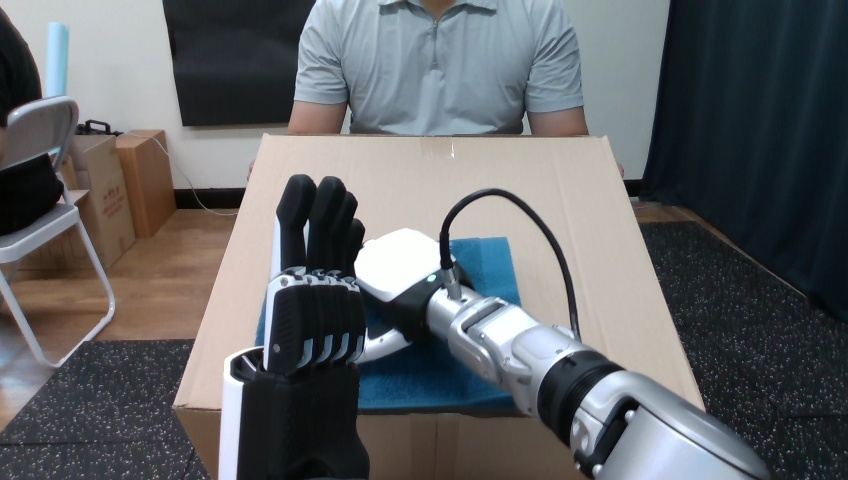left robot hand: (220, 174, 769, 478), (448, 196, 571, 329)
